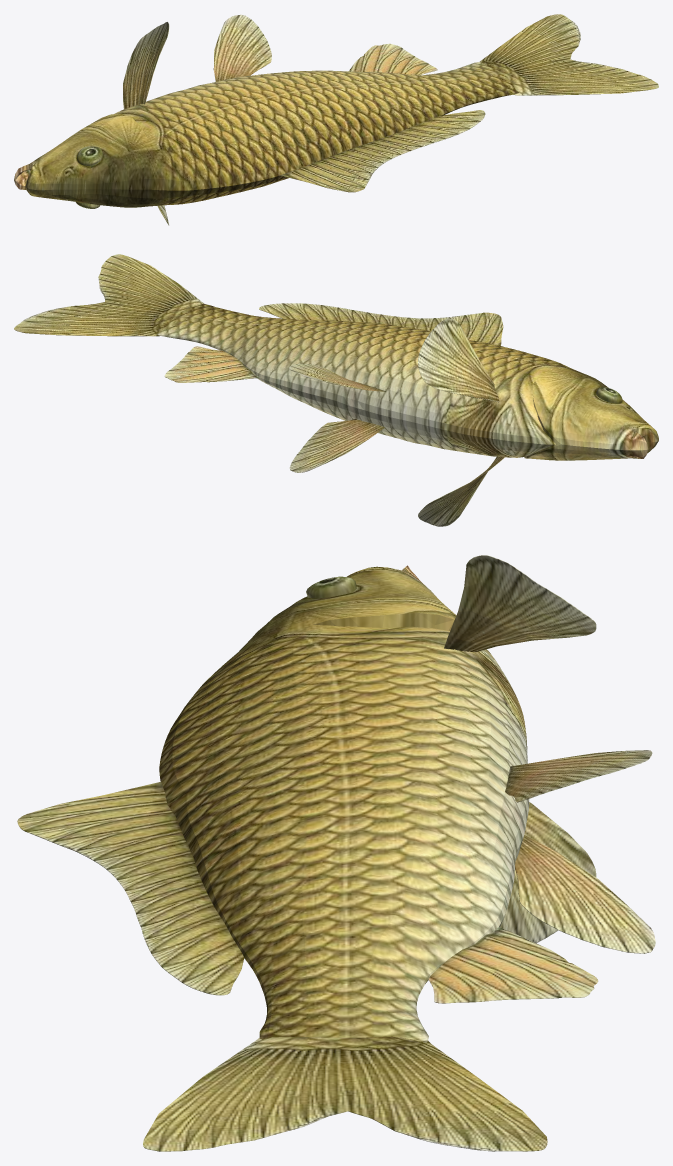
Rendered from result_Fish_Final.obj.
The picture shows the model from 3 angles, top to bottom: view 1: azimuth 30°, elevation 25°; view 2: azimuth 150°, elevation 25°; view 3: azimuth 270°, elevation 25°; orthographic projection. The views are drawn at different scales.
Parts seen in each view (by area): view 1: result_body, result_tailor, modelPanel1ViewSelectedSet result_back, result_waist1, result_bust1, result_hip, object10; view 2: result_body, result_tailor, result_bust1, modelPanel1ViewSelectedSet result_back, result_waist, result_hip, result_bust, result_waist1; view 3: result_body, result_tailor, modelPanel1ViewSelectedSet result_back, result_bust1, result_waist, result_hip, result_waist1, result_bust.
Boxes of the visible parts, bbox=[...] form: result_body: bbox=[14, 61, 518, 207]; result_tailor: bbox=[480, 14, 658, 95]; modelPanel1ViewSelectedSet result_back: bbox=[280, 110, 485, 192]; result_waist1: bbox=[213, 14, 271, 81]; result_bust1: bbox=[123, 22, 169, 109]; result_hip: bbox=[349, 43, 437, 75]; object10: bbox=[77, 146, 102, 165]; result_body: bbox=[156, 303, 658, 460]; result_tailor: bbox=[14, 254, 204, 336]; result_bust1: bbox=[418, 318, 499, 402]; modelPanel1ViewSelectedSet result_back: bbox=[259, 303, 503, 345]; result_waist: bbox=[289, 419, 384, 472]; result_hip: bbox=[164, 346, 259, 382]; result_bust: bbox=[418, 456, 504, 526]; result_waist1: bbox=[289, 364, 385, 391]; result_body: bbox=[159, 565, 529, 1042]; result_tailor: bbox=[143, 1036, 547, 1151]; modelPanel1ViewSelectedSet result_back: bbox=[17, 781, 244, 995]; result_bust1: bbox=[444, 555, 596, 651]; result_waist: bbox=[515, 835, 655, 953]; result_hip: bbox=[428, 927, 598, 1003]; result_waist1: bbox=[505, 750, 652, 802]; result_bust: bbox=[499, 802, 596, 943].
Bounding box in the file's own units: 0.4763 × 0.1568 × 0.2261.
Materials: 1 (1 with a texture image).
